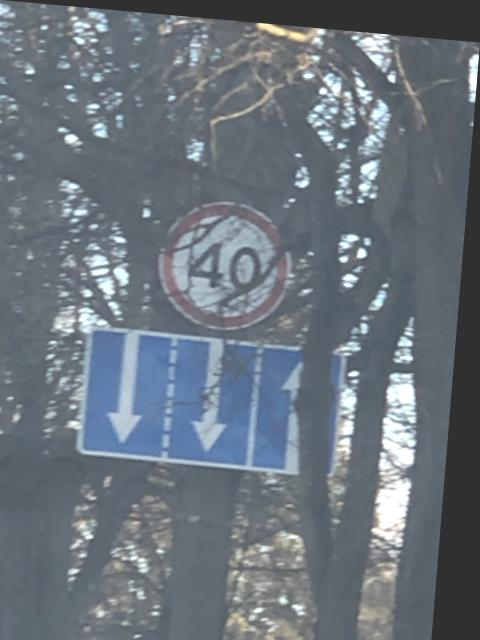limit40: (153, 183, 304, 335)
